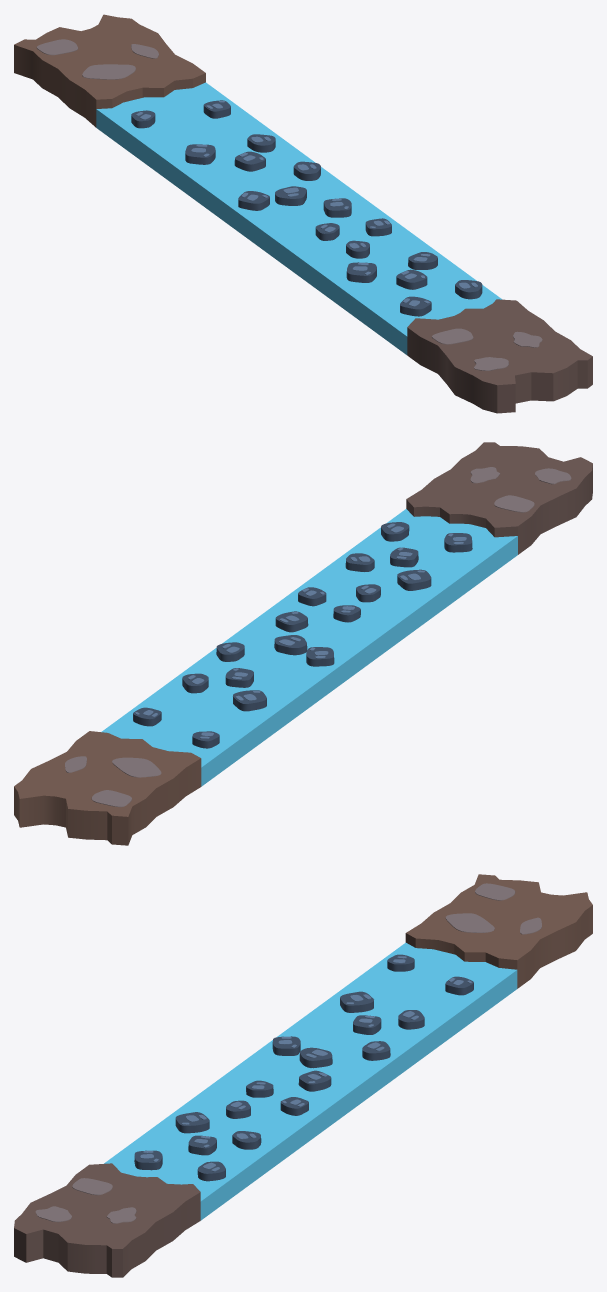
The model's file is level.fbx.
The picture shows the model from 3 angles, top to bottom: view 1: azimuth 30°, elevation 25°; view 2: azimuth 150°, elevation 25°; view 3: azimuth 330°, elevation 25°; orthographic projection.
Parts seen in each view (by area): view 1: Cube, Cube.002, Cube.001, Cylinder.002, Cylinder.012, Cylinder.009, Cylinder.015, Cylinder.005, Cylinder.006; view 2: Cube, Cube.001, Cube.002, Cylinder.012, Cylinder.002, Cylinder.009, Cylinder.006, Cylinder.015, Cylinder.005; view 3: Cube, Cube.002, Cube.001, Cylinder.012, Cylinder.002, Cylinder.009, Cylinder.006, Cylinder.005, Cylinder.015.
Part boxes in pixels (box(x1,y1,x2,y2)): Cube: box(96, 82, 502, 354); Cube.002: box(407, 299, 592, 413); Cube.001: box(14, 14, 205, 127); Cylinder.002: box(185, 144, 215, 164); Cylinder.012: box(346, 262, 376, 282); Cylinder.009: box(275, 186, 306, 205); Cylinder.015: box(400, 296, 431, 316); Cylinder.005: box(238, 191, 269, 210); Cylinder.006: box(323, 198, 351, 217); Cube: box(101, 509, 517, 786); Cube.001: box(14, 731, 201, 845); Cube.002: box(406, 442, 592, 554); Cylinder.012: box(397, 569, 431, 590); Cylinder.002: box(233, 690, 266, 711); Cylinder.009: box(274, 635, 307, 655); Cylinder.006: box(275, 611, 308, 632); Cylinder.015: box(444, 533, 472, 552); Cylinder.005: box(306, 647, 334, 666); Cube: box(104, 942, 517, 1220); Cube.002: box(14, 1163, 200, 1277); Cube.001: box(405, 874, 592, 988); Cylinder.012: box(175, 1112, 209, 1133); Cylinder.002: box(340, 991, 373, 1012); Cylinder.009: box(299, 1047, 332, 1068); Cylinder.006: box(298, 1070, 331, 1091); Cylinder.005: box(272, 1036, 300, 1055); Cylinder.015: box(134, 1150, 162, 1170).
Size of the model in its own units: 1276 by 293 by 8876.
